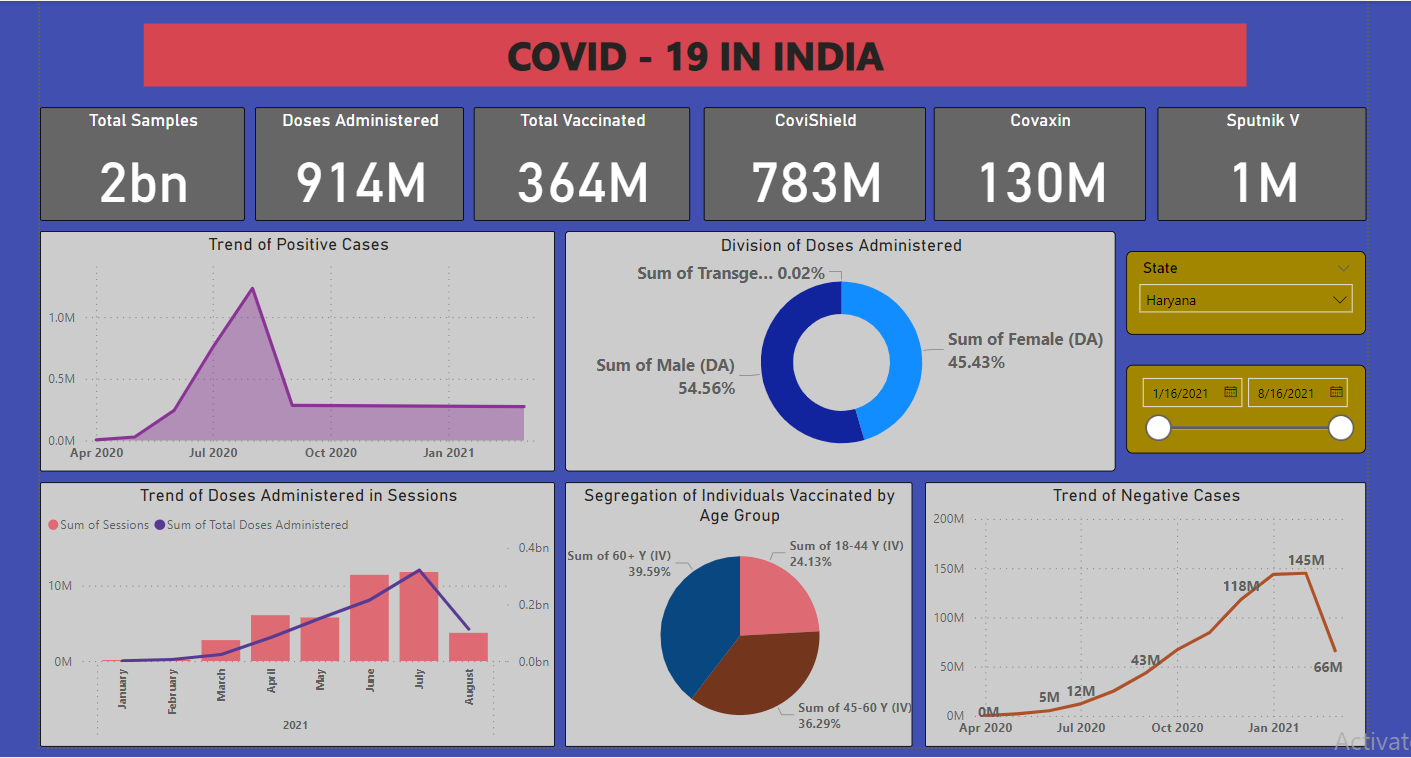

The page's visual inventory and layout, read from the dashboard file:
{"tool":"powerbi","page":{"name":"Page 1","canvas":[1280,720],"ordinal":0},"visuals":[{"type":"areaChart","title":"Trend of Positive  Cases","fields":{"Category":["StatewiseTestingDetails.Date.Variation.Date Hierarchy.Year","StatewiseTestingDetails.Date.Variation.Date Hierarchy.Month"],"Y":["Sum(StatewiseTestingDetails.Positive)"]},"box":[0,222.5,497.2,232.1],"z":0},{"type":"donutChart","title":"Division of Doses Administered","fields":{"Y":["Sum(covid19.Female (Doses Administered))","Sum(covid19.Male (Doses Administered))","Sum(covid19.Transgender (Doses Administered))"]},"box":[506.8,222.5,531.5,232.1],"z":1000},{"type":"slicer","fields":{"Values":["covid19.State"]},"box":[1048,241.2,231.6,80.8],"z":2000},{"type":"lineChart","title":"Trend of Negative Cases","fields":{"Category":["StatewiseTestingDetails.Date.Variation.Date Hierarchy.Year","StatewiseTestingDetails.Date.Variation.Date Hierarchy.Month"],"Y":["Sum(StatewiseTestingDetails.Negative)"]},"box":[854.2,464.2,425.8,255.5],"z":3000},{"type":"card","title":"Total Samples","fields":{"Values":["Sum(StatewiseTestingDetails.TotalSamples)"]},"box":[0,103,197.8,109.9],"z":4000},{"type":"lineStackedColumnComboChart","title":"Trend of Doses Administered in Sessions","fields":{"Category":["covid19.Date.Variation.Date Hierarchy.Year","covid19.Date.Variation.Date Hierarchy.Month"],"Y":["Sum(covid19.Sessions)"],"Y2":["Sum(covid19.Total Doses Administered)"]},"box":[0,464.2,497.2,255.5],"z":4001},{"type":"card","title":"Doses Administered","fields":{"Values":["Sum(covid19.Total Doses Administered)"]},"box":[207.4,103,201.9,109.9],"z":4002},{"type":"card","title":"Covaxin","fields":{"Values":["Sum(covid19. Covaxin (Doses Administered))"]},"box":[862.5,103,204.6,109.9],"z":4003},{"type":"card","title":"CoviShield","fields":{"Values":["Sum(covid19.CoviShield (Doses Administered))"]},"box":[640,103,214.2,109.9],"z":4004},{"type":"pieChart","title":"Segregation of Individuals Vaccinated by Age Group ","fields":{"Y":["Sum(covid19.18-44 Years(Individuals Vaccinated))","Sum(covid19.45-60 Years(Individuals Vaccinated))","Sum(covid19.60+ Years(Individuals Vaccinated))"]},"box":[506.8,464.2,335.1,255.5],"z":4006},{"type":"card","title":"Total Vaccinated","fields":{"Values":["Sum(covid19.Total Individuals Vaccinated)"]},"box":[418.9,103,208.8,109.9],"z":4007},{"type":"slicer","fields":{"Values":["covid19.Date"]},"box":[1048,351,231.6,85.6],"z":4008},{"type":"card","title":"Sputnik V","fields":{"Values":["Sum(covid19.Sputnik V (Doses Administered))"]},"box":[1078.1,103,201.9,109.9],"z":4009},{"type":"textbox","box":[100.3,22,1064.4,60.4],"z":4010}]}

Visuals, with their boxes in screenshot pixels (x1, y1, x2, y2):
"Trend of Positive  Cases" areaChart: {"left": 37, "top": 231, "right": 552, "bottom": 471}
"Division of Doses Administered" donutChart: {"left": 562, "top": 231, "right": 1113, "bottom": 471}
slicer - covid19.State: {"left": 1123, "top": 250, "right": 1363, "bottom": 334}
"Trend of Negative Cases" lineChart: {"left": 922, "top": 481, "right": 1364, "bottom": 746}
"Total Samples" card: {"left": 37, "top": 107, "right": 242, "bottom": 221}
"Trend of Doses Administered in Sessions" lineStackedColumnComboChart: {"left": 37, "top": 481, "right": 552, "bottom": 746}
"Doses Administered" card: {"left": 252, "top": 107, "right": 461, "bottom": 221}
"Covaxin" card: {"left": 931, "top": 107, "right": 1143, "bottom": 221}
"CoviShield" card: {"left": 700, "top": 107, "right": 922, "bottom": 221}
"Segregation of Individuals Vaccinated by Age Group " pieChart: {"left": 562, "top": 481, "right": 910, "bottom": 746}
"Total Vaccinated" card: {"left": 471, "top": 107, "right": 688, "bottom": 221}
slicer - covid19.Date: {"left": 1123, "top": 364, "right": 1363, "bottom": 453}
"Sputnik V" card: {"left": 1154, "top": 107, "right": 1364, "bottom": 221}
textbox: {"left": 141, "top": 23, "right": 1244, "bottom": 85}
